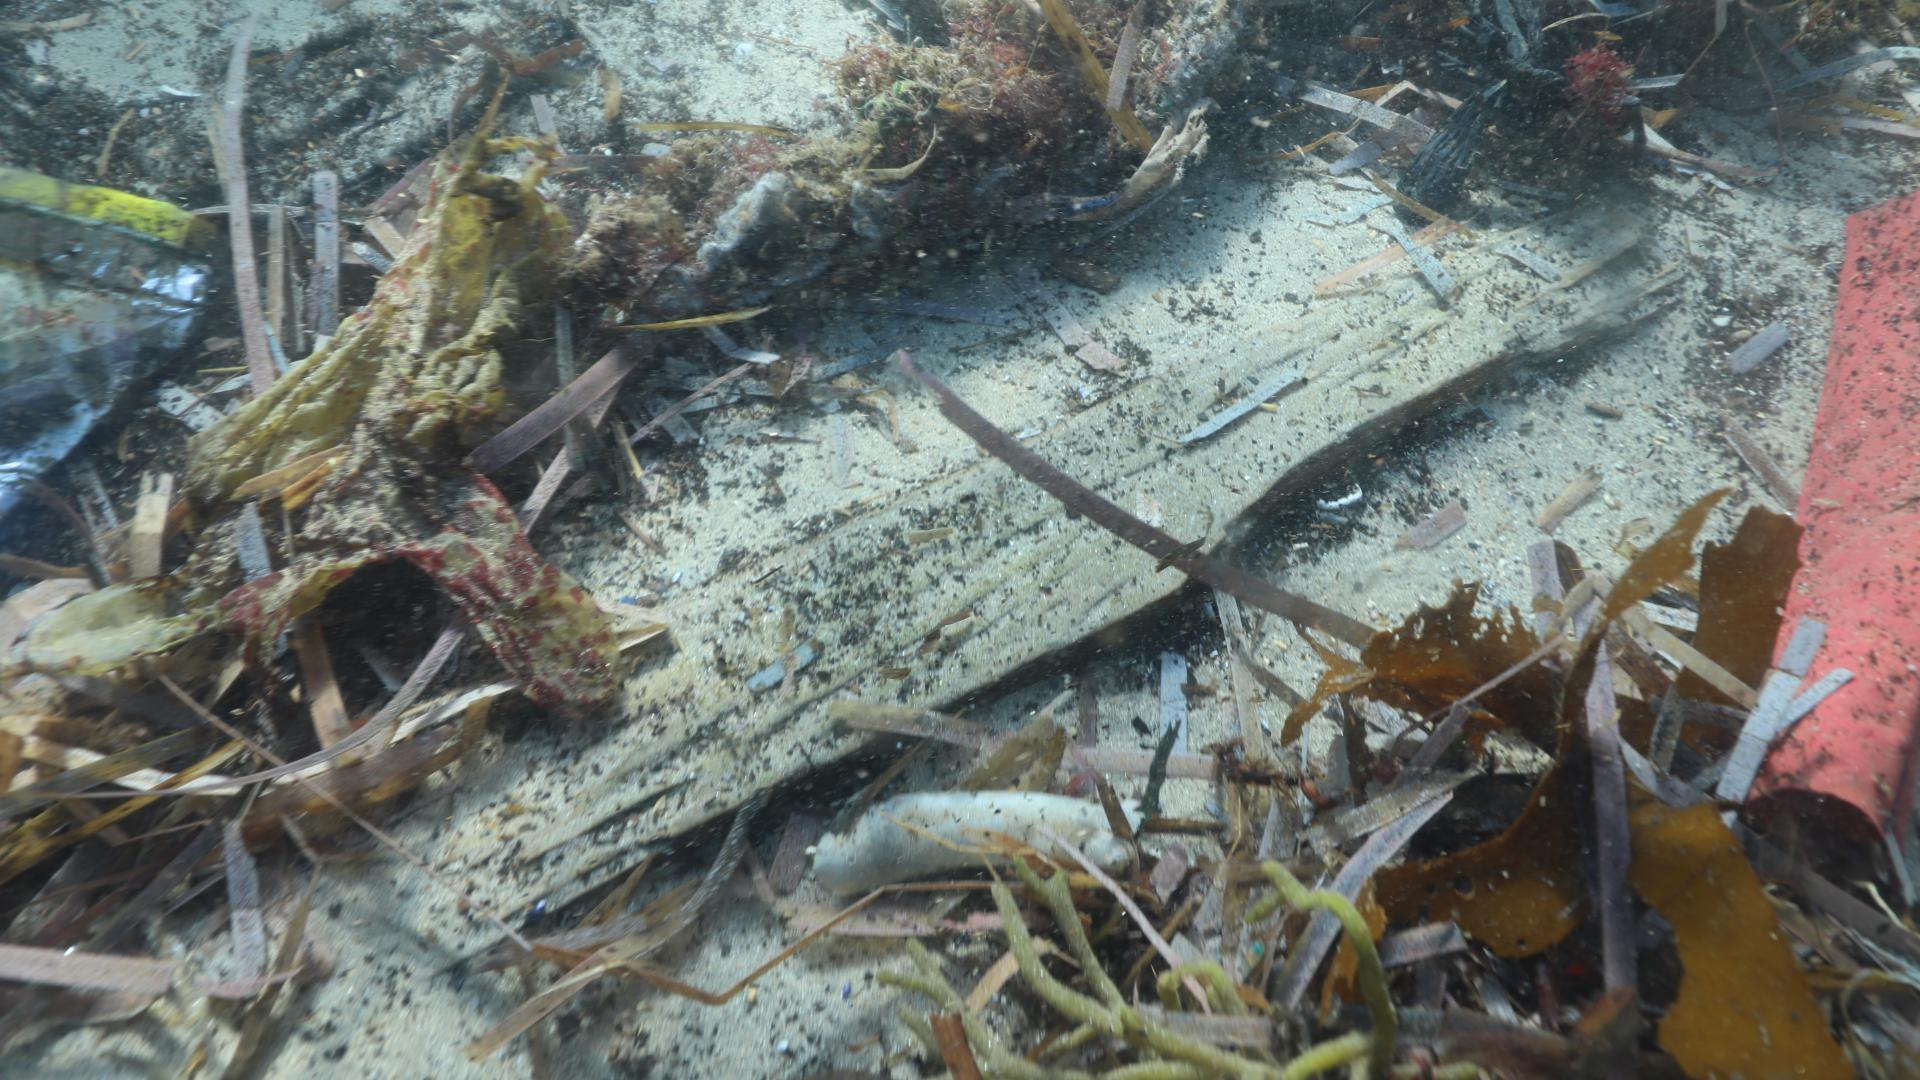wood: (492, 200, 1683, 918)
